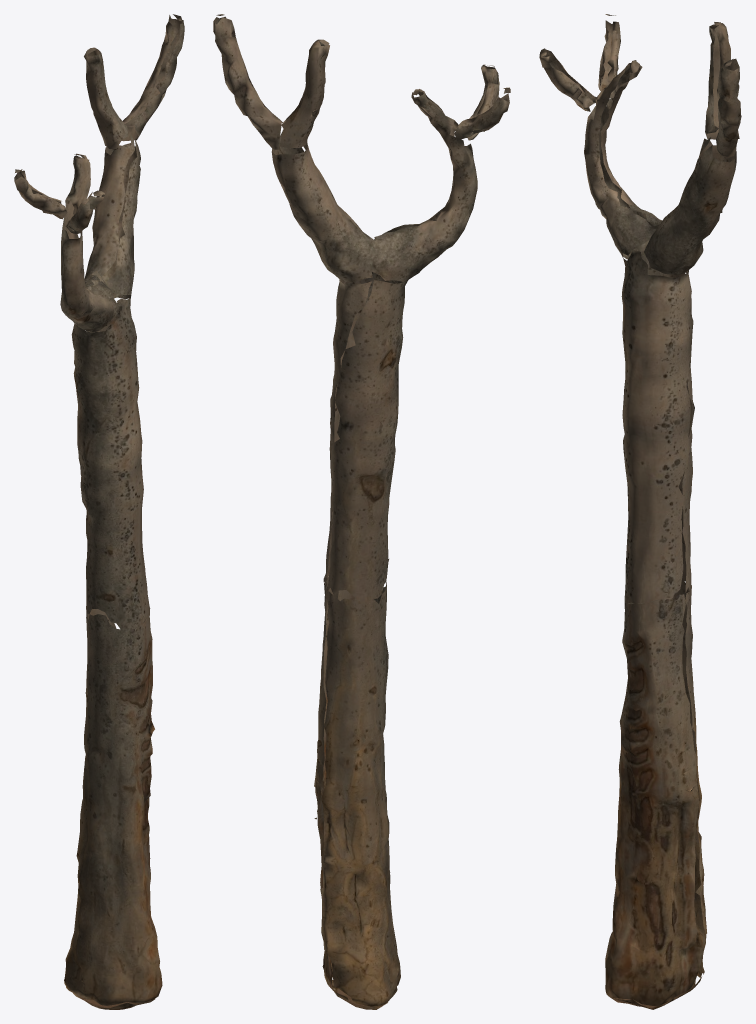
File: quiver1-trunk.glb
3 views of the same model, side by side, from view 1: azimuth 30°, elevation 25°; view 2: azimuth 150°, elevation 25°; view 3: azimuth 270°, elevation 25° (orthographic). The views are drawn at different scales.
Parts seen in each view (by area): view 1: quiver_tree_01; view 2: quiver_tree_01; view 3: quiver_tree_01.
Boxes of the visible parts, box(x1,y1,x2,y2) form: quiver_tree_01: box(14, 14, 184, 1009); quiver_tree_01: box(213, 14, 510, 1009); quiver_tree_01: box(539, 14, 741, 1009).
Size of the model in its own units: 1.04 by 4.14 by 0.7652.
1 material, 1 textured.
